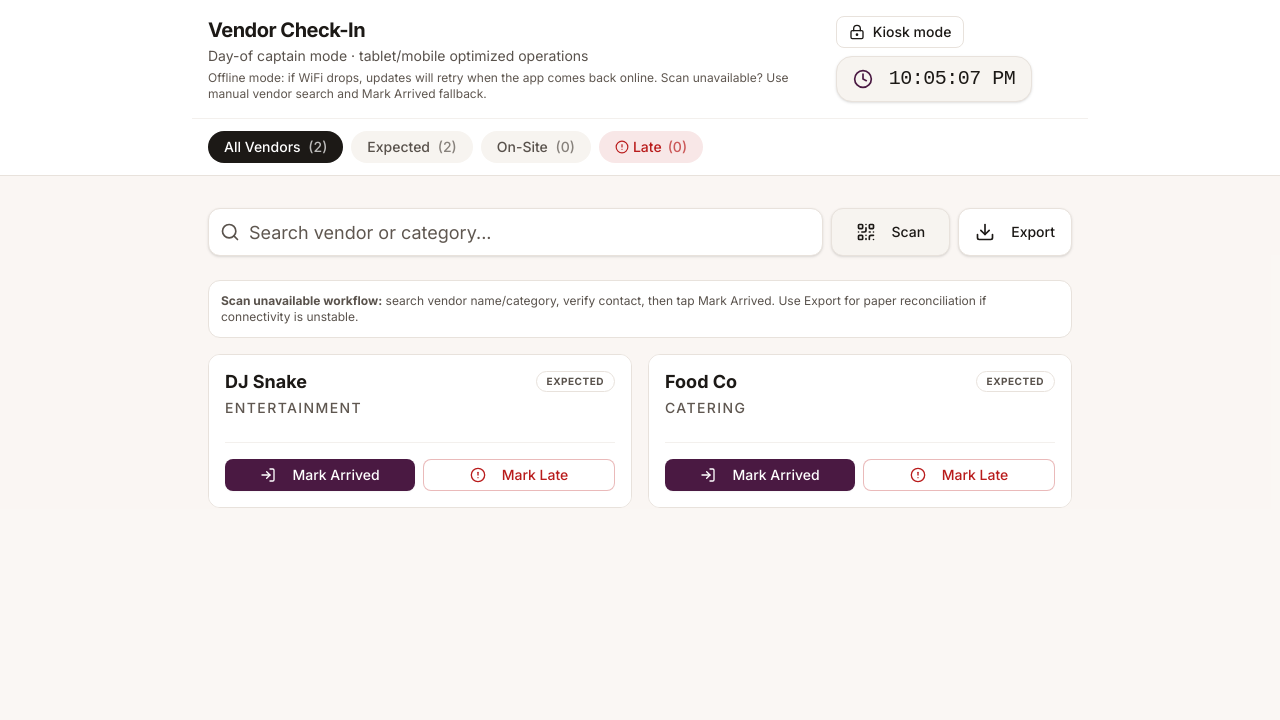
Scenario: VendorCheckInApp › queues the update offline and replays it on reconnect (advertised offline retry)
Expected: the heading "DJ Snake" is shown, [225,371,307,392]
Click the button "Mark Arrived" below "Entertainment" at (320, 474), box [225,458,415,490]
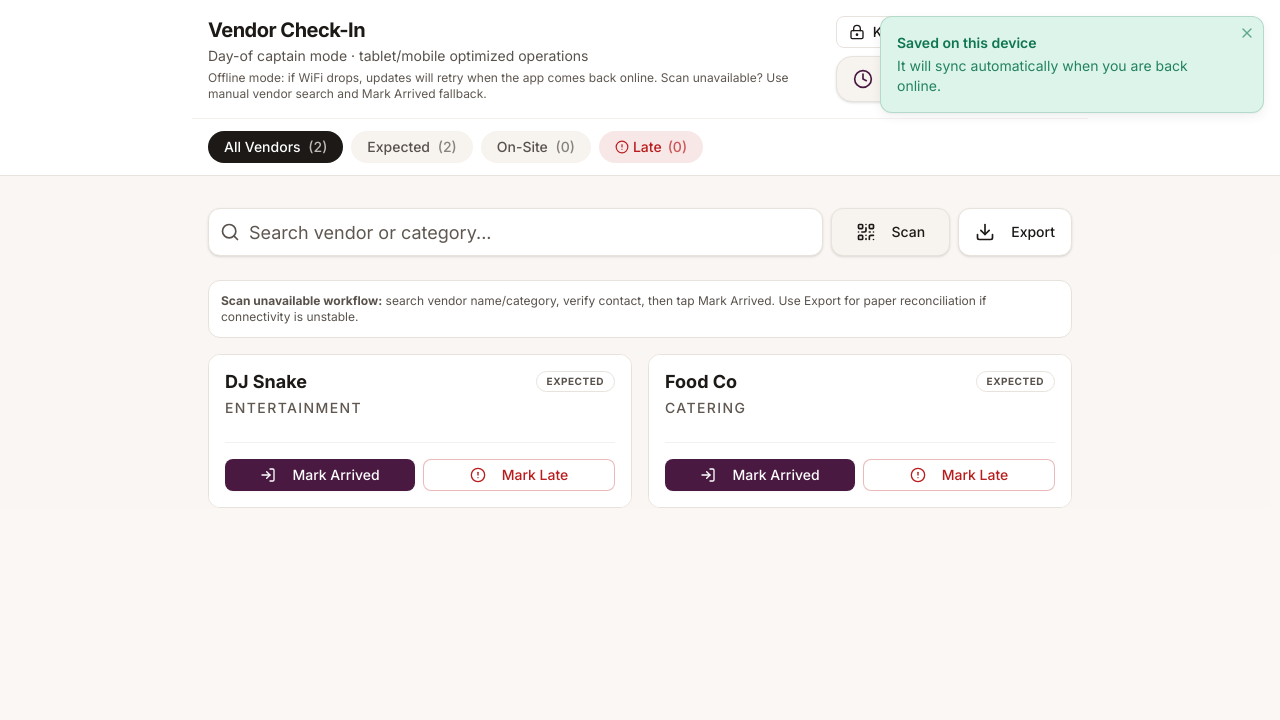
Expected: the text "Saved on this device" is shown, [897,34,1036,51]
